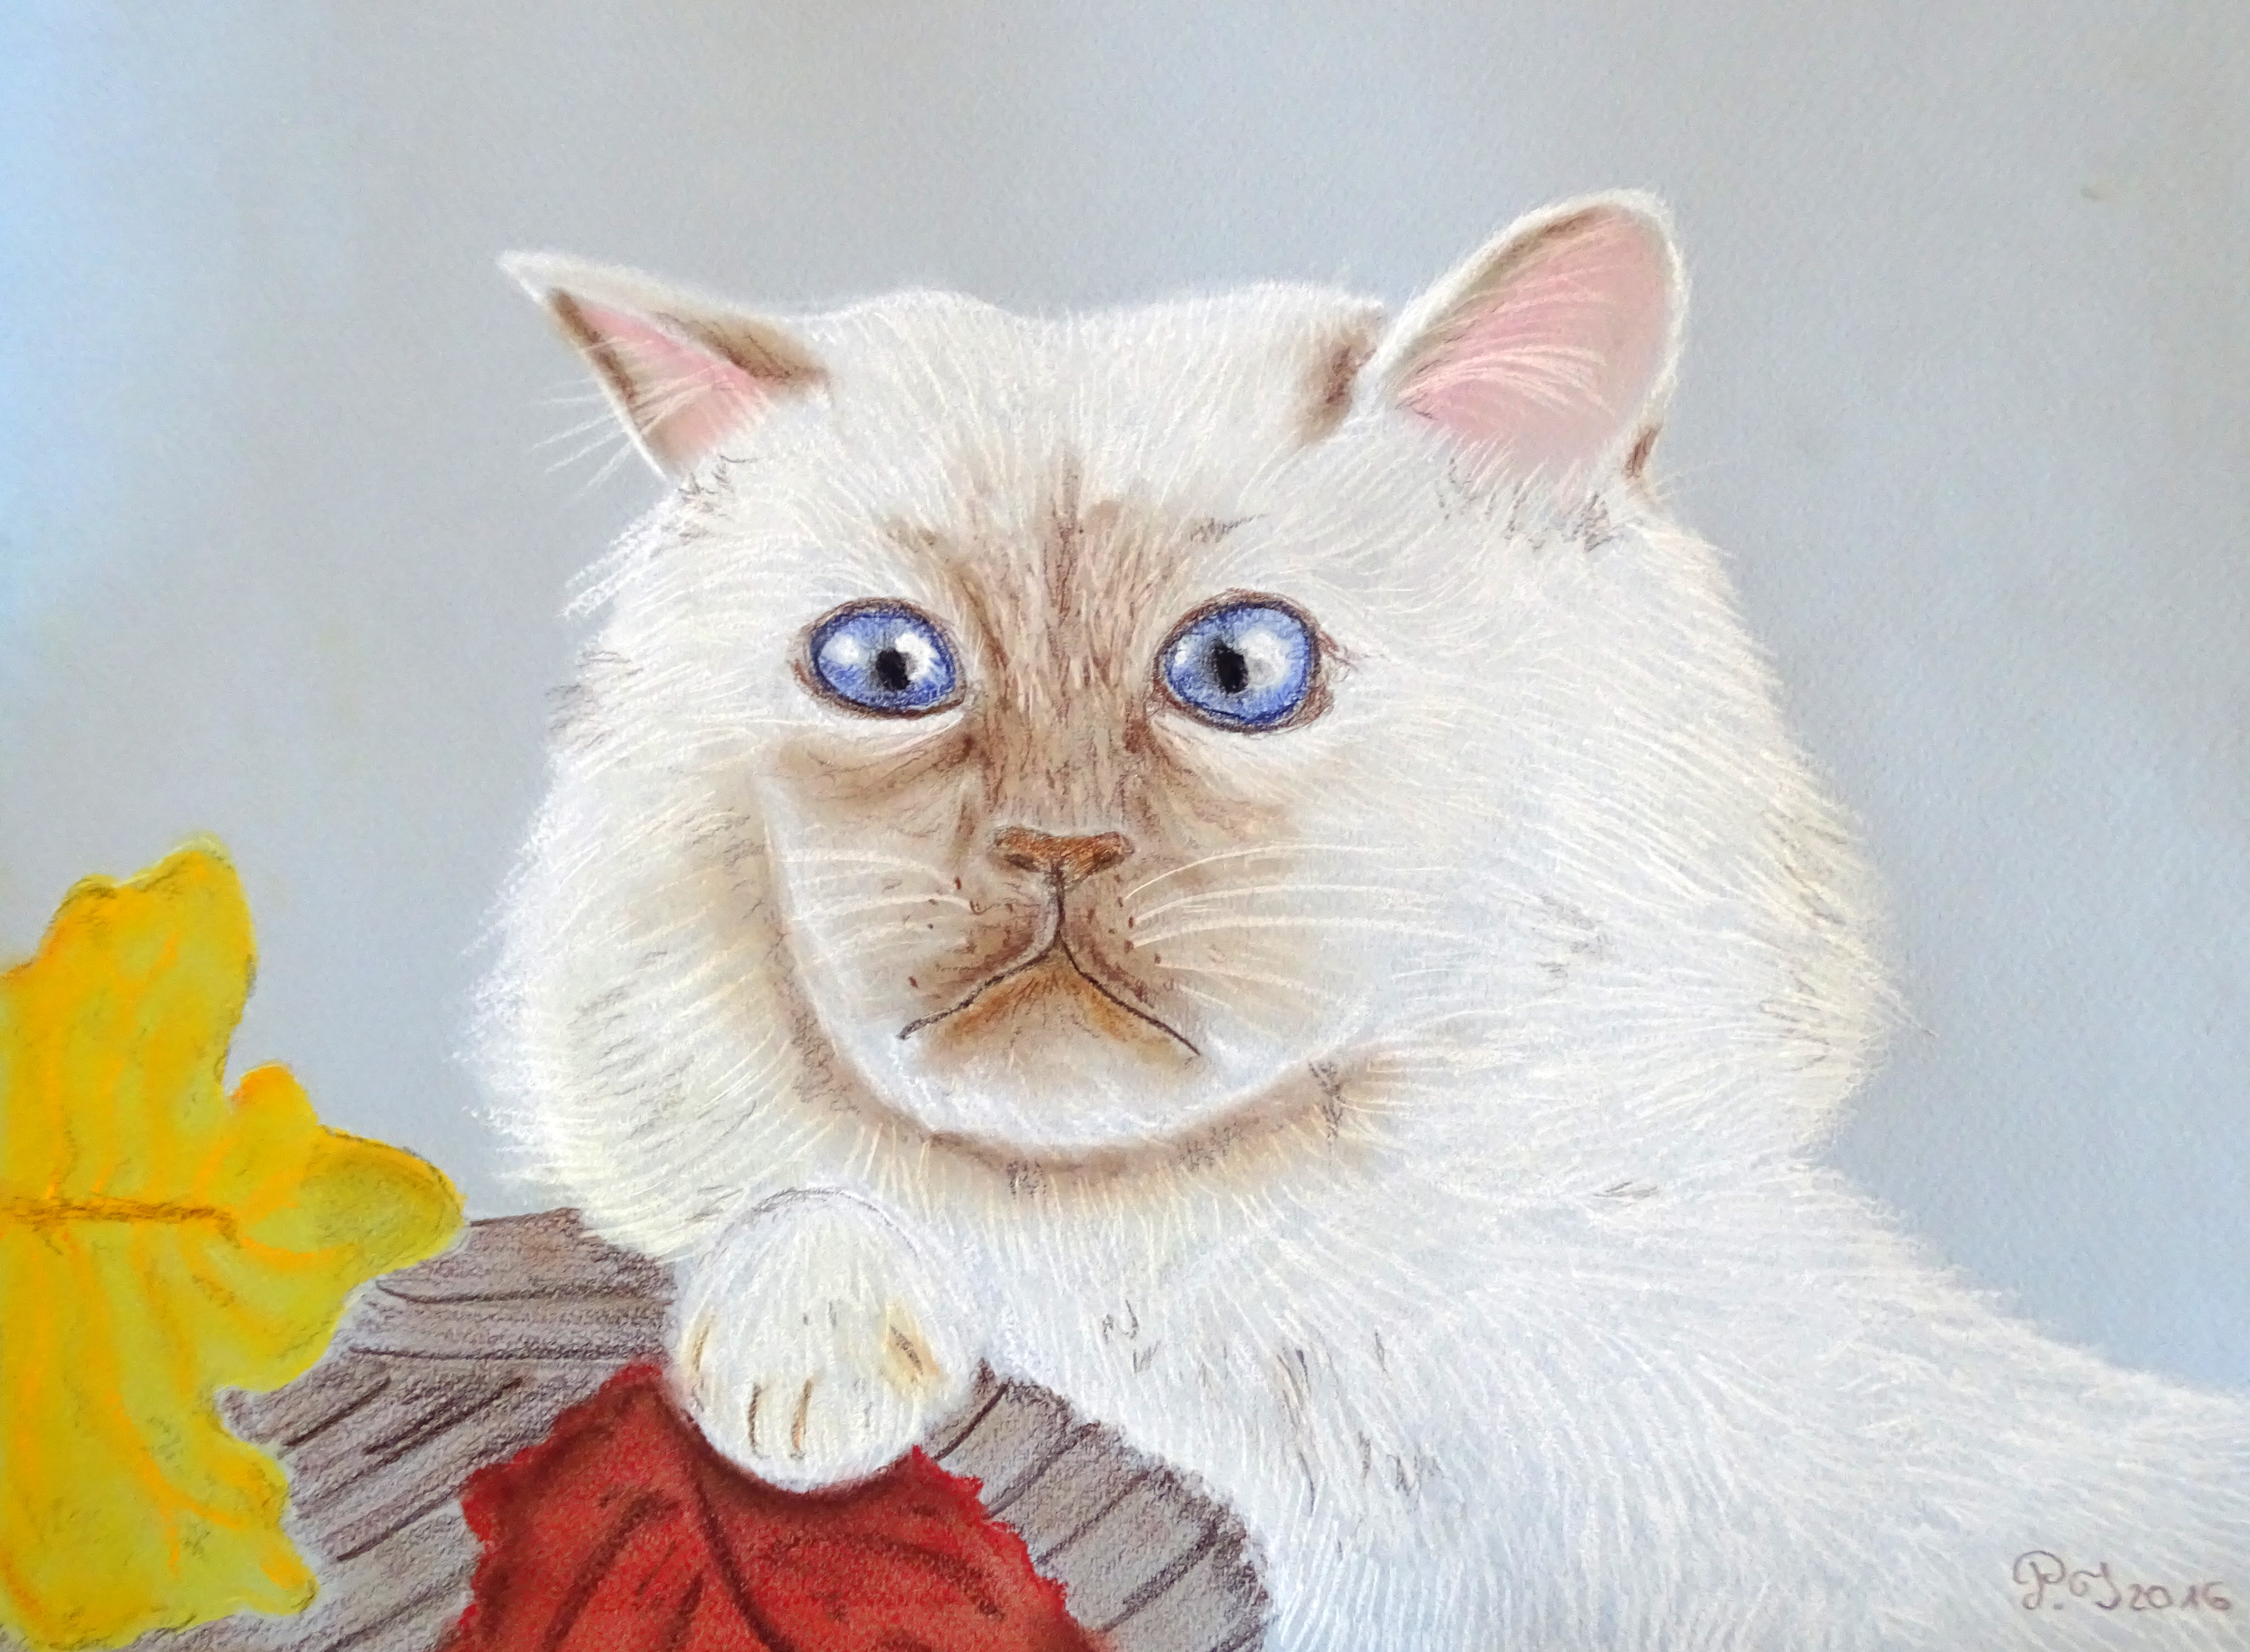cat: (480, 185, 2240, 1652)
